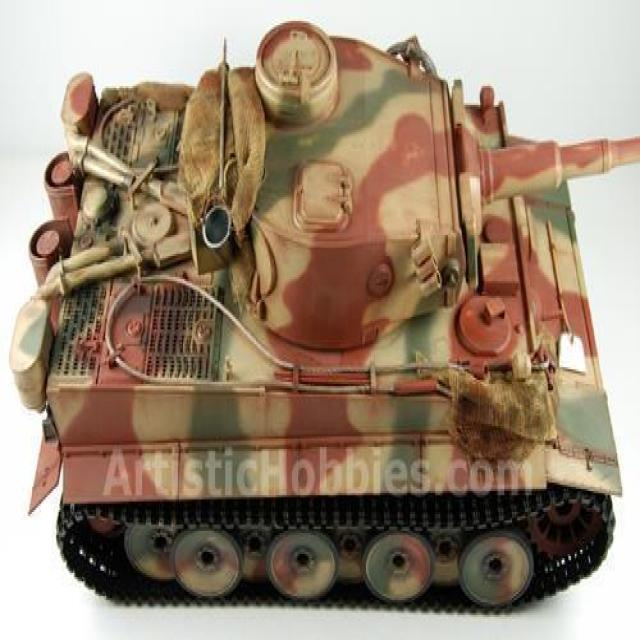Tanks: (13, 10, 632, 617)
